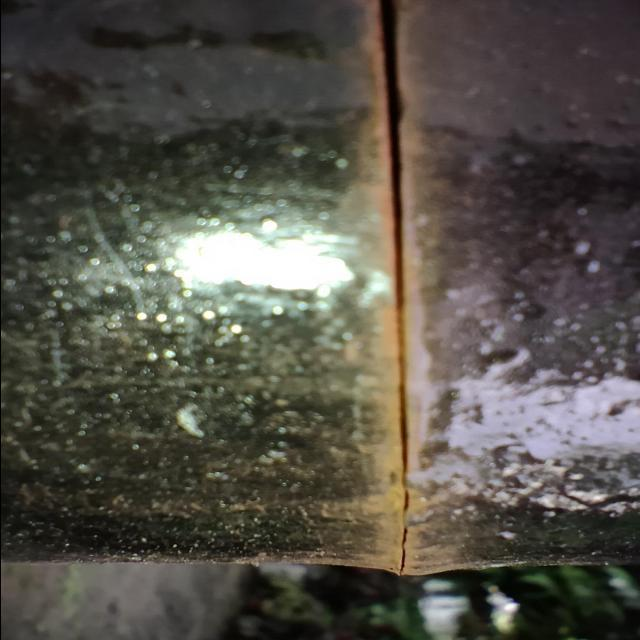Defect: (370, 5, 432, 568)
